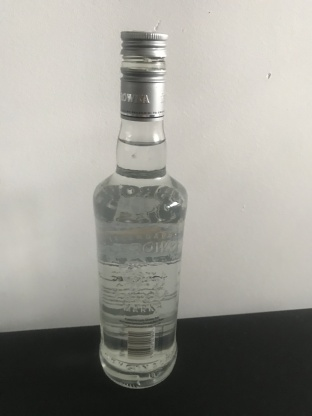nakretka: (119, 28, 167, 122)
